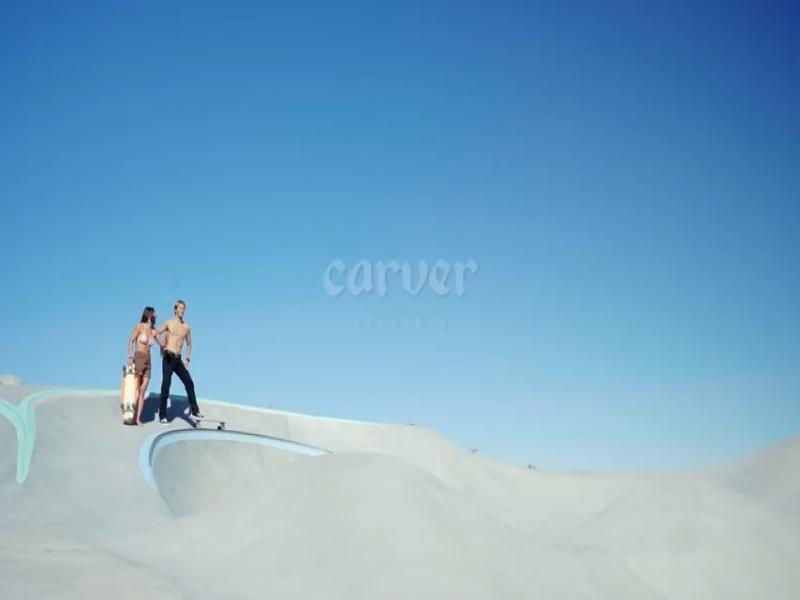person: (156, 300, 203, 422), (128, 309, 156, 424)
skate: (120, 363, 138, 424), (189, 416, 225, 431)
